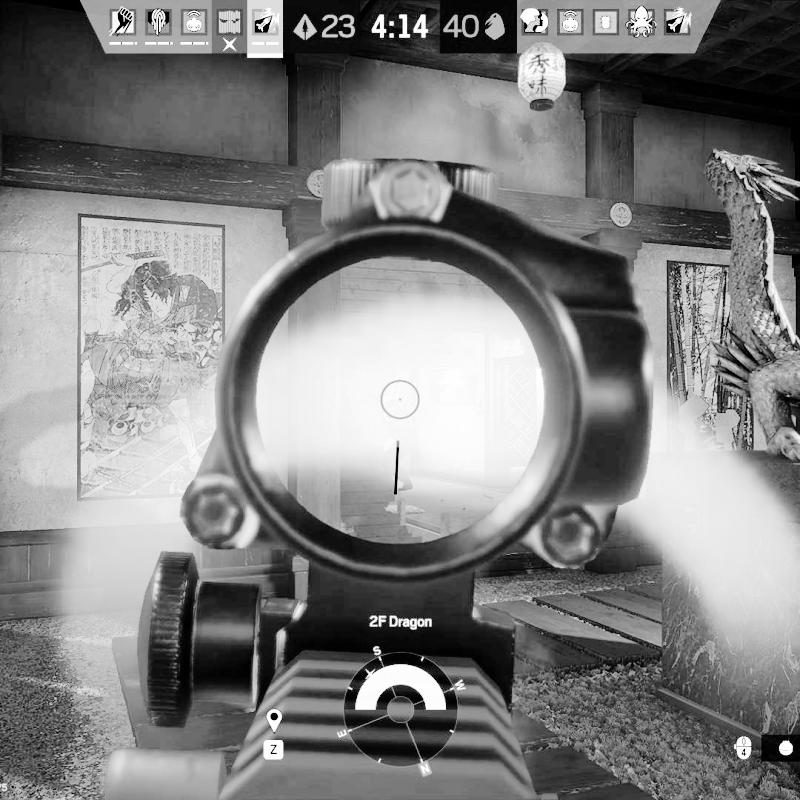Character: (383, 392, 415, 493)
